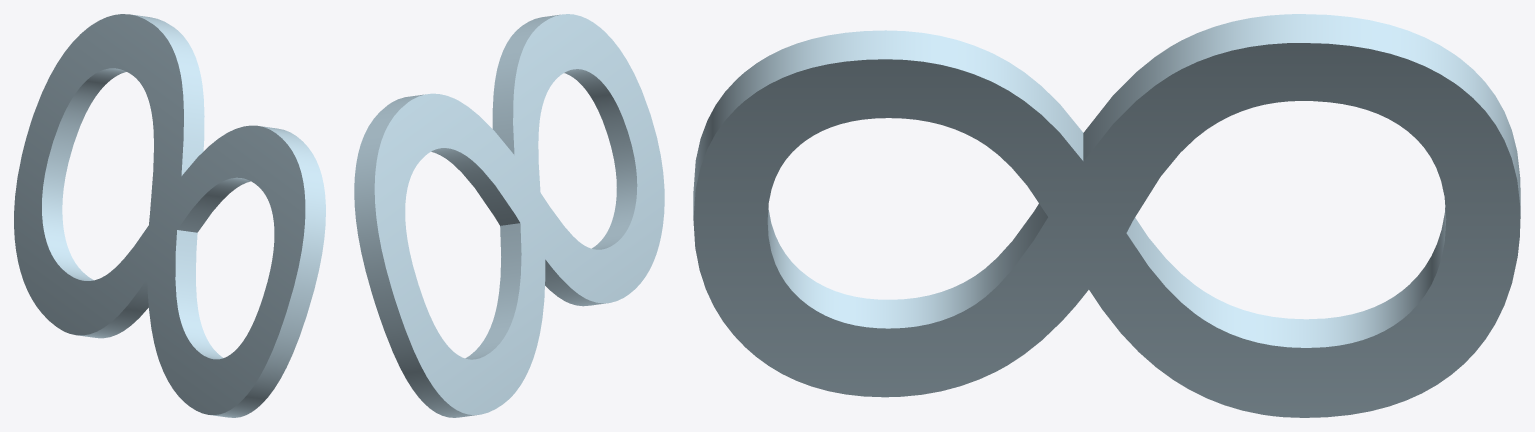
The model's file is Number_8.gltf.
The picture shows the model from 3 angles, left to right: view 1: azimuth 30°, elevation 25°; view 2: azimuth 150°, elevation 25°; view 3: azimuth 270°, elevation 25°; orthographic projection. The views are drawn at different scales.
Visible parts, largest first — view 1: Sub_6_Cell_1_1_Number_8; view 2: Sub_6_Cell_1_1_Number_8; view 3: Sub_6_Cell_1_1_Number_8.
Part boxes in pixels (x1,y1,x2,y2): Sub_6_Cell_1_1_Number_8: [14, 14, 325, 417]; Sub_6_Cell_1_1_Number_8: [354, 14, 664, 417]; Sub_6_Cell_1_1_Number_8: [693, 14, 1520, 417].
Size of the model in its own units: 0.00681 by 0.016 by 0.0259.
